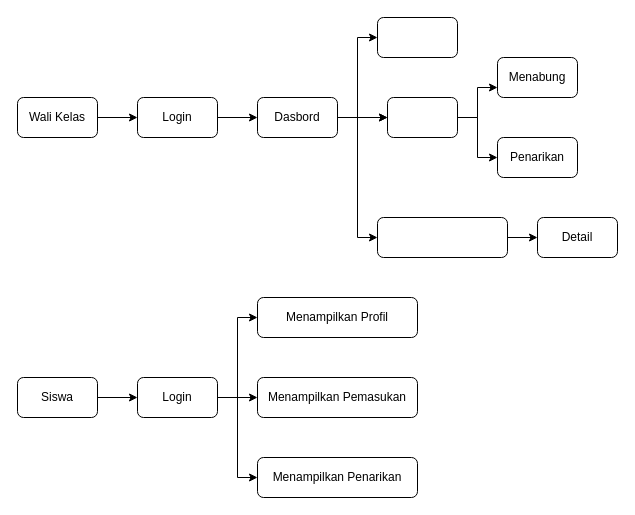
Image size: 635x515. Some labels were removed from this diagram. The centre of each missing label's shape, as x and y in pixels:
"Data Siswa" goes at (417,37).
"Laporan data tabungan" goes at (442,237).
"Tabungan" goes at (422,117).
